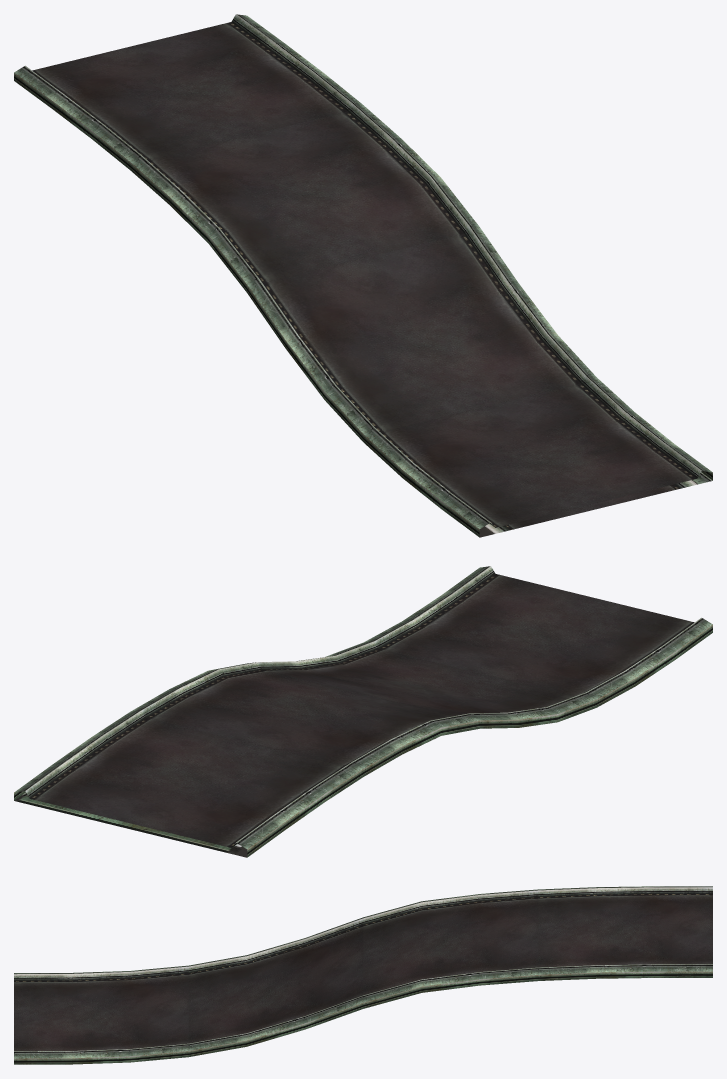
Rendered from GrandTremplin.fbx.
The picture shows the model from 3 angles, top to bottom: view 1: azimuth 30°, elevation 25°; view 2: azimuth 150°, elevation 25°; view 3: azimuth 270°, elevation 25°; orthographic projection. The views are drawn at different scales.
Parts seen in each view (by area): view 1: Grand_Tremplin; view 2: Grand_Tremplin; view 3: Grand_Tremplin.
Part boxes in pixels (box(x1,y1,x2,y2)): Grand_Tremplin: box(14, 14, 712, 537); Grand_Tremplin: box(14, 566, 712, 857); Grand_Tremplin: box(14, 886, 712, 1064).
Size of what is drawn, in the model's own units: 18.5 by 9.73 by 64.
